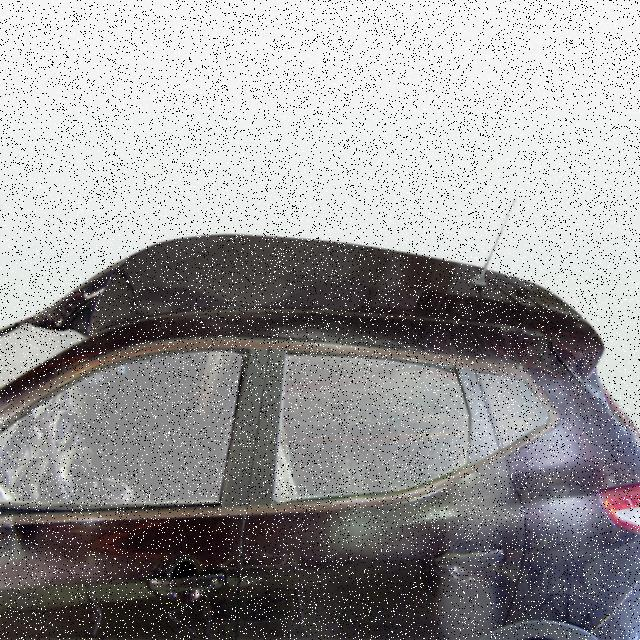roof-dent: (11, 234, 462, 376)
